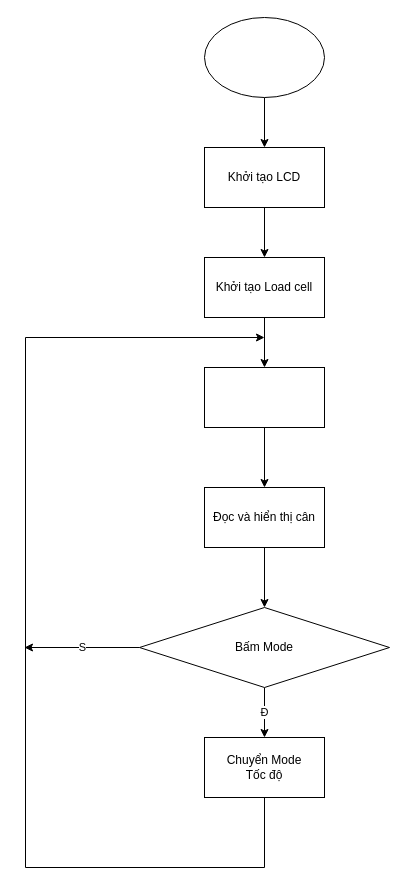
Image size: 407x893. Some labels were removed from this diagram. The box of each missing label's shape, as (x1, y1, x2, y2) in pixels:
Bắt đầu: (204, 16, 324, 98)
Đọc và hiển thị tốc độ: (204, 366, 324, 428)
